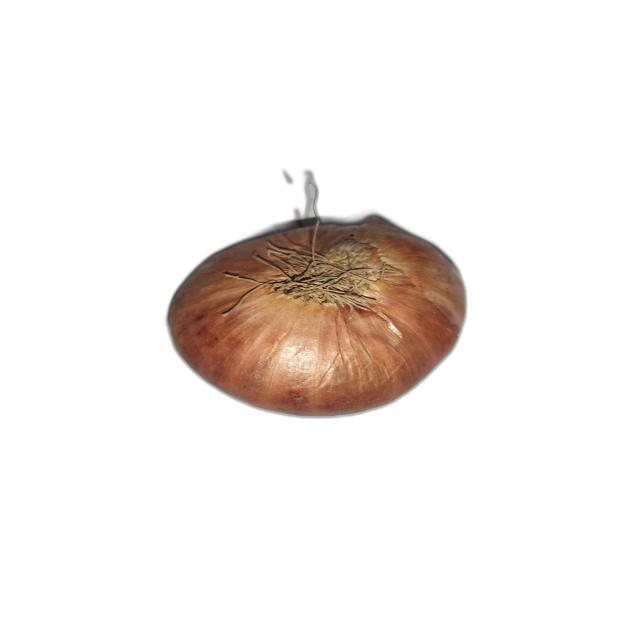onion: (166, 218, 468, 418)
